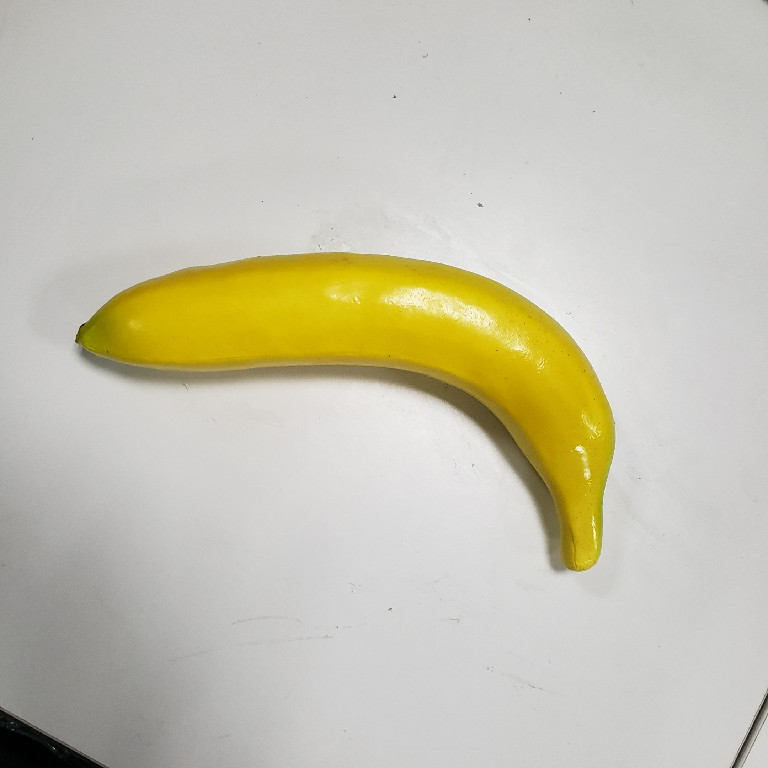fruit_banana: (72, 247, 620, 576)
